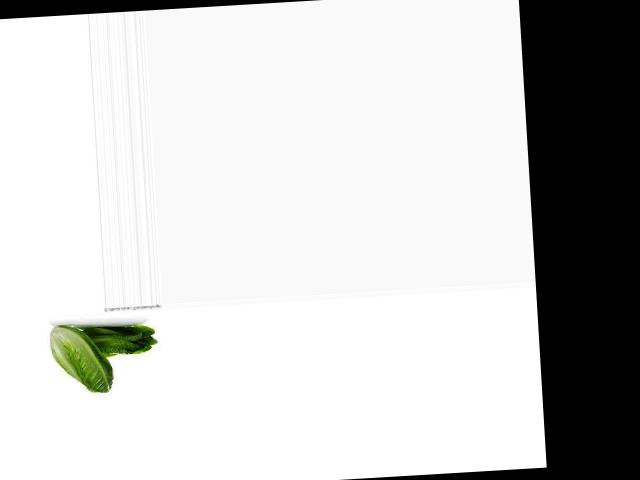lettuce: (82, 313, 157, 365)
